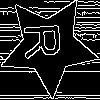R: (23, 21, 70, 61)
